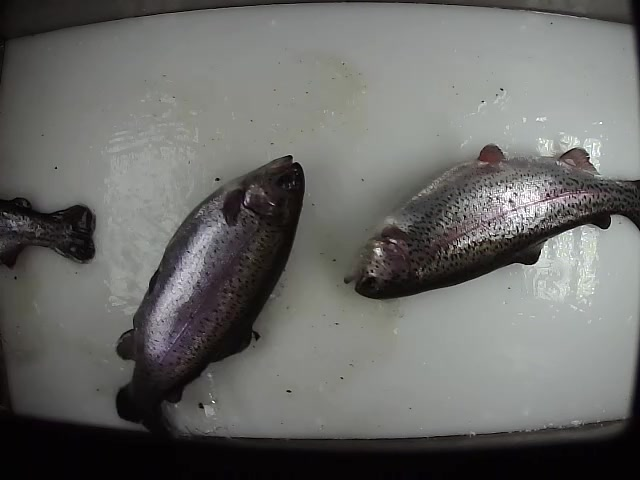fish: (116, 154, 306, 436), (344, 142, 640, 300)
